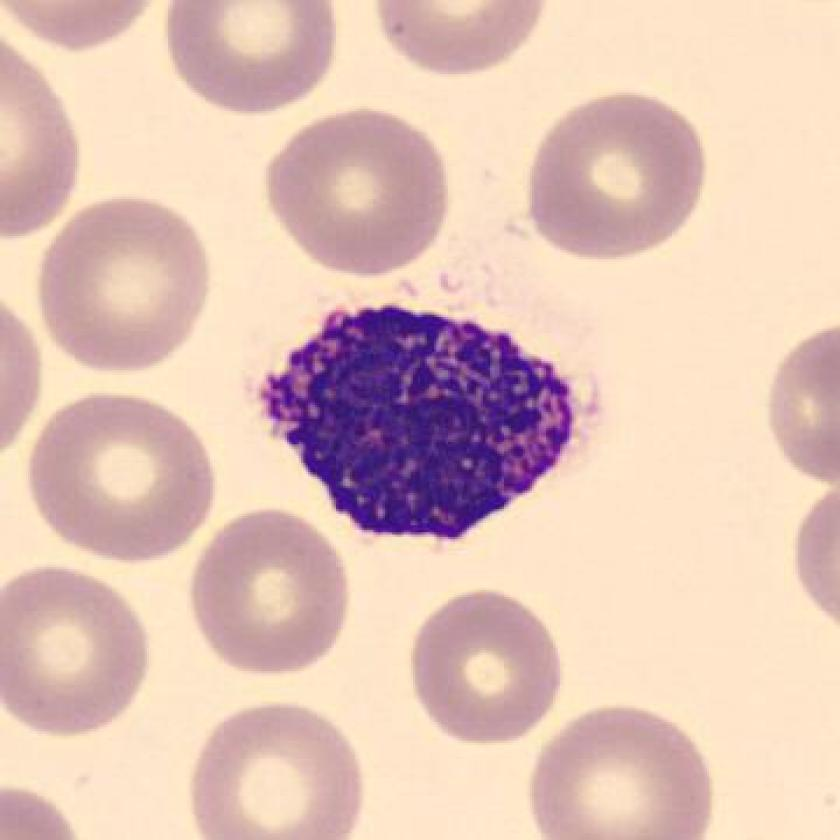basophil: (251, 295, 591, 549)
